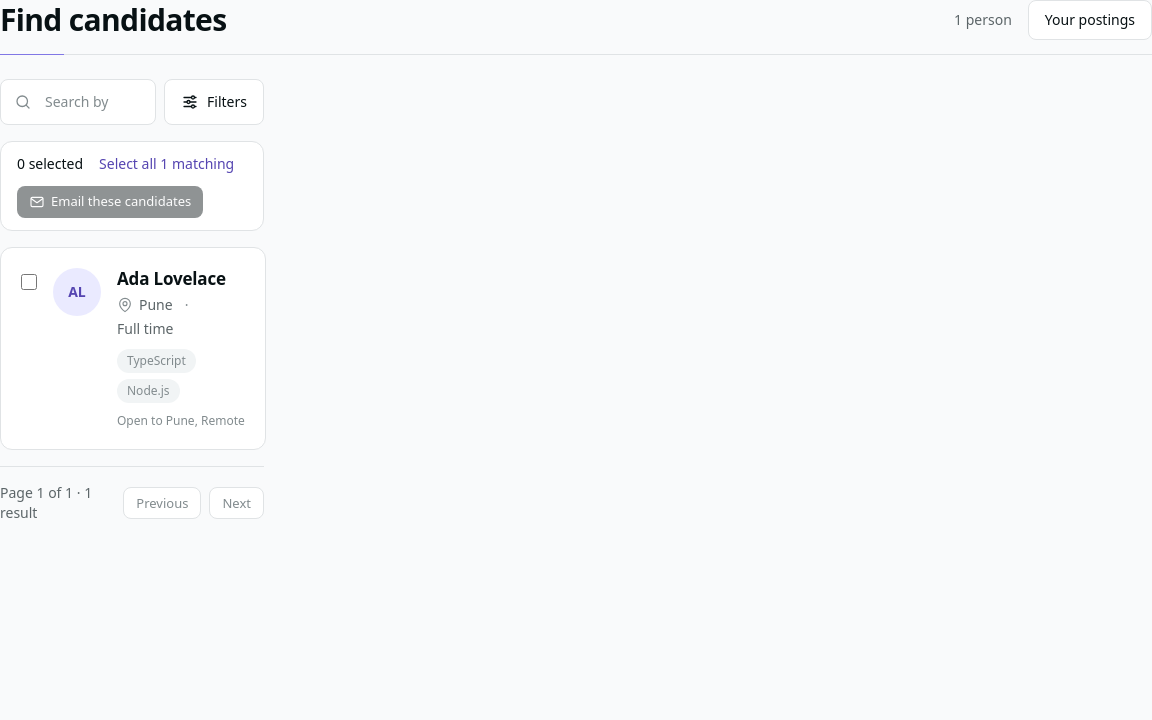
CandidatesPage › keeps the filters behind the filter button
Expected: the link "Ada Lovelace" is shown, top-left (117, 268), bottom-right (226, 289)
Expected: the field labelled "Skills" is not shown
Click the button "Filters": (214,102) top-left (164, 79), bottom-right (264, 125)
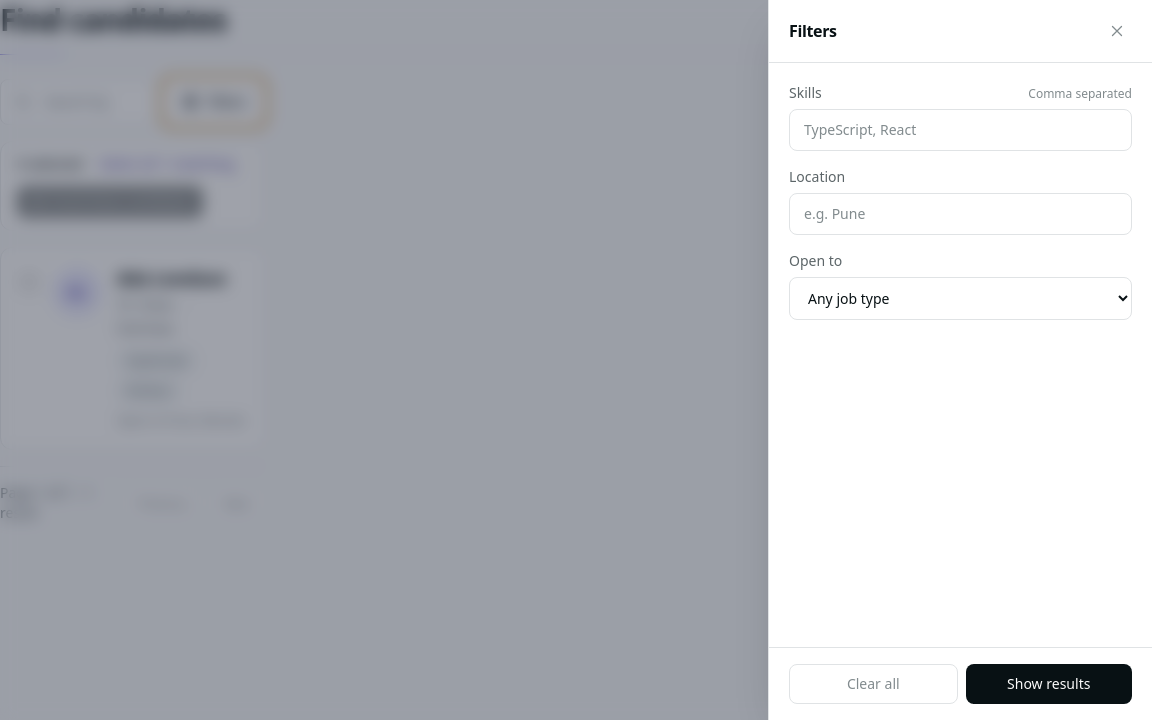
Expected: the field labelled "Skills" is shown, top-left (789, 109), bottom-right (1132, 151)
